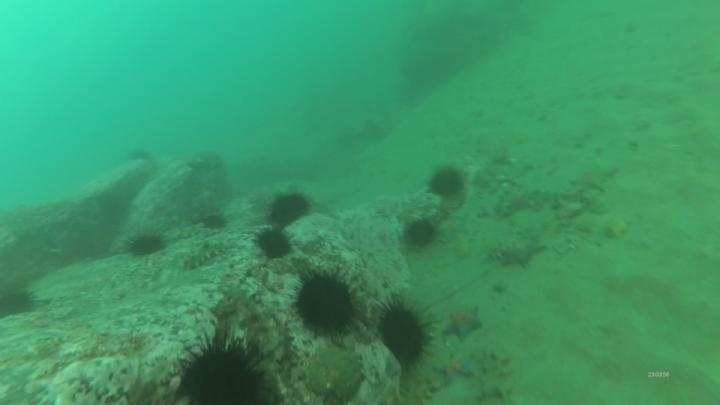echinus: (175, 332, 271, 405), (292, 268, 362, 340), (375, 298, 434, 369), (266, 189, 312, 227), (426, 165, 467, 201), (253, 226, 294, 261), (0, 284, 39, 320), (401, 216, 439, 251), (125, 229, 167, 260), (198, 209, 230, 232), (125, 145, 153, 165)
holothurian: (179, 237, 232, 273)
starfish: (493, 238, 548, 272), (439, 303, 485, 342), (569, 161, 619, 195), (432, 350, 477, 386), (497, 184, 540, 217), (435, 211, 469, 244)
